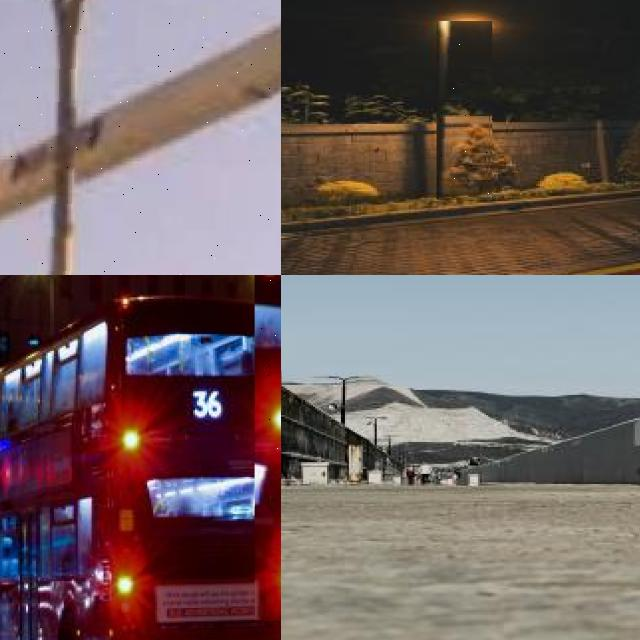street light: (0, 0, 281, 275), (439, 22, 493, 200), (254, 275, 281, 620), (26, 275, 56, 541), (317, 377, 372, 482), (362, 415, 388, 479)
